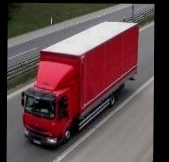truck: (20, 19, 138, 150)
